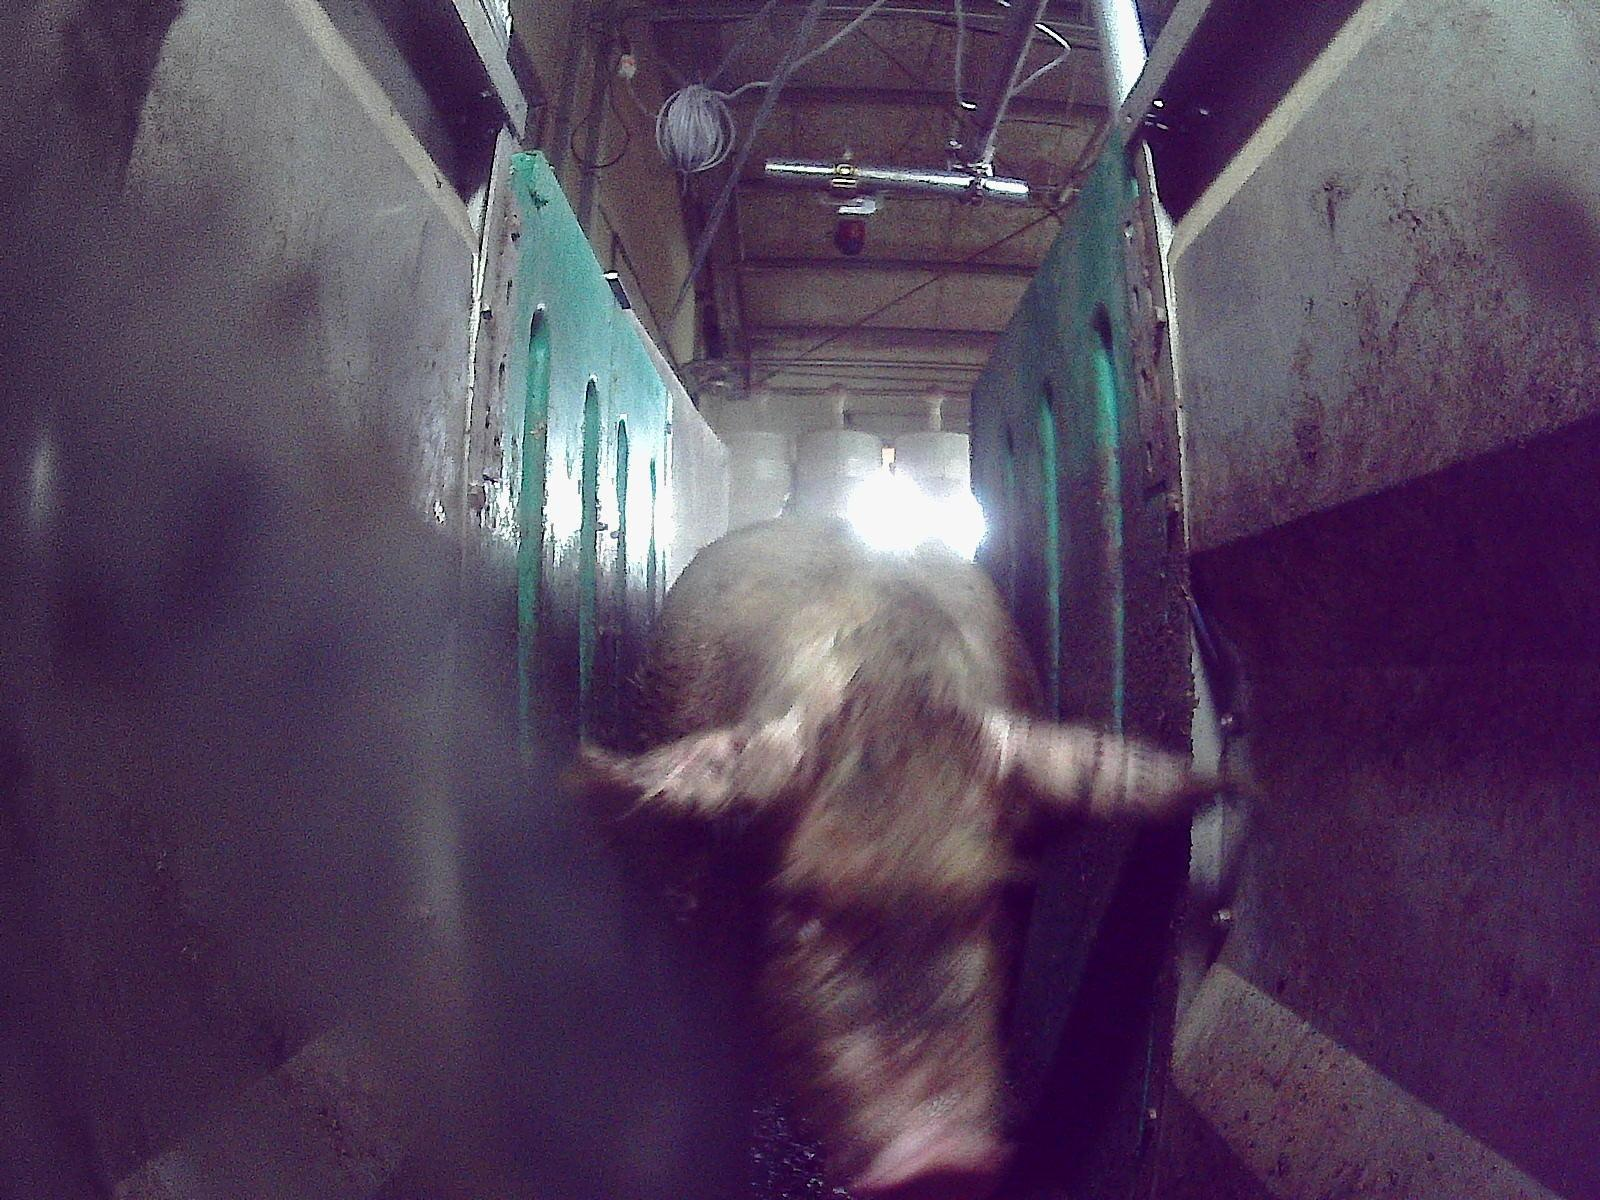Face: (741, 697, 1043, 1199)
